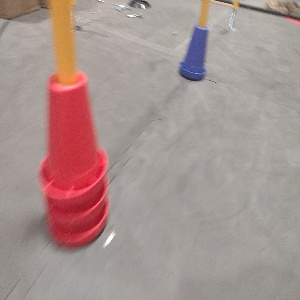Blue_1: (178, 24, 208, 81)
Red_3: (35, 71, 109, 247)
